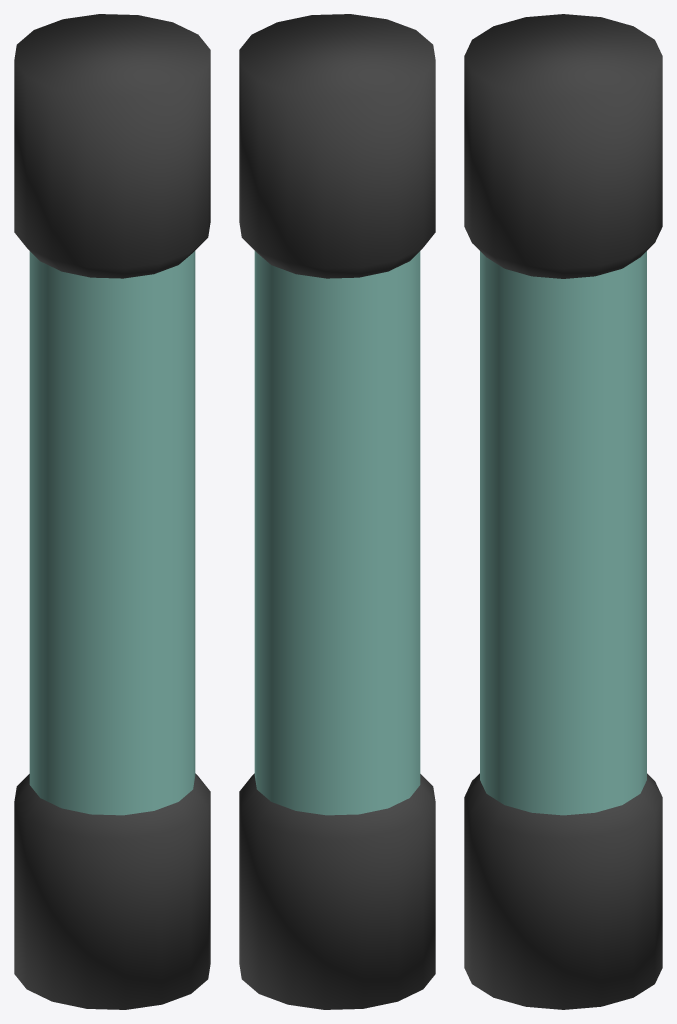
The model's file is 3D Fuse.fbx.
3 renders of one model, left to right at view 1: azimuth 30°, elevation 25°; view 2: azimuth 150°, elevation 25°; view 3: azimuth 270°, elevation 25°, orthographic.
Visible parts, largest first — view 1: fuse1-1, fuse1-0; view 2: fuse1-1, fuse1-0; view 3: fuse1-1, fuse1-0.
Boxes of the visible parts, x1,y1,x2,y2 form: fuse1-1: [29, 251, 195, 815]; fuse1-0: [14, 14, 210, 1009]; fuse1-1: [254, 251, 420, 815]; fuse1-0: [239, 14, 435, 1009]; fuse1-1: [480, 251, 646, 815]; fuse1-0: [464, 14, 662, 1009].
Bounding box in the file's own units: 0.00584 × 0.0297 × 0.00584.
